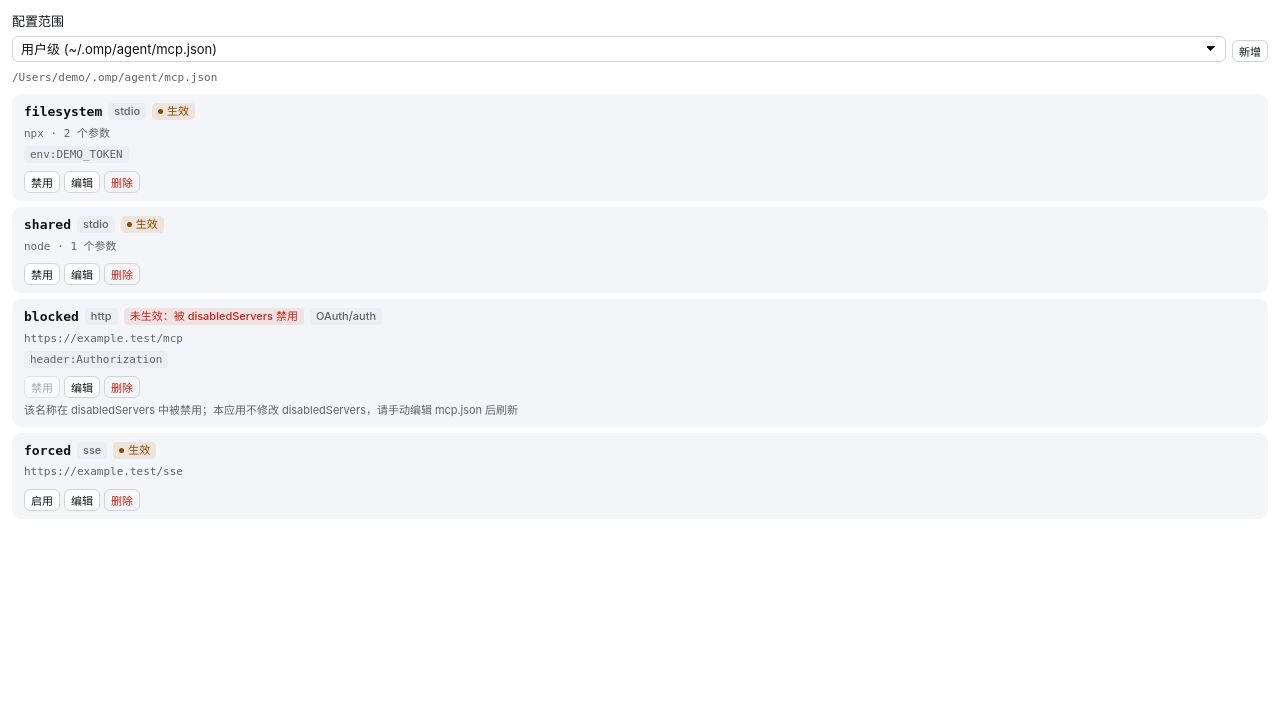
行与状态 › 选中项目级后显示项目行，用户级同名条目进只读区并标被覆盖
Expected: the element with test id "mcp-row-user-filesystem" is shown, top-left (12, 94), bottom-right (1268, 201)
Select "omp-resume — /Users/demo/my/omp-resume" in the dropdown labelled "配置范围" at (619, 48), box top-left (12, 36), bottom-right (1226, 62)
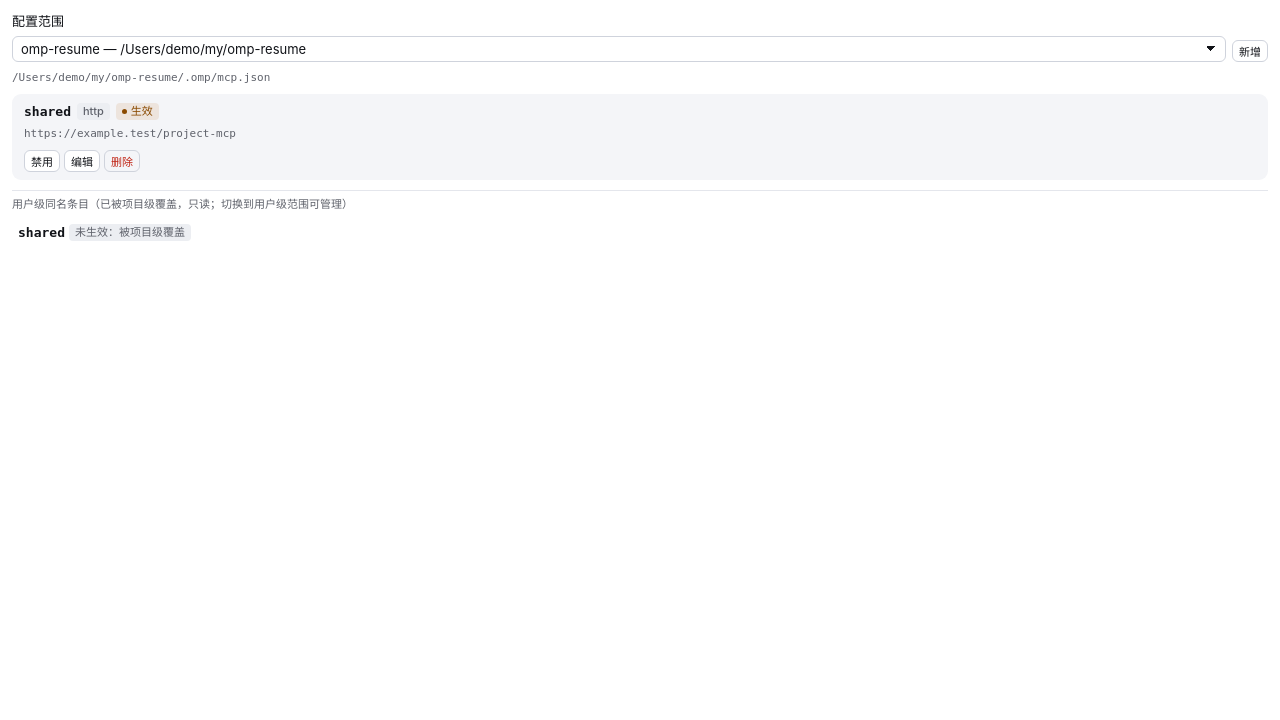
Expected: the text "生效" is shown, top-left (116, 103), bottom-right (159, 120)
Now the element with test id "mcp-row-project-shared" is shown, box top-left (12, 94), bottom-right (1268, 180)
Now the text "用户级同名条目（已被项目级覆盖，只读；切换到用户级范围可管理）" is shown, box top-left (12, 197), bottom-right (353, 211)
